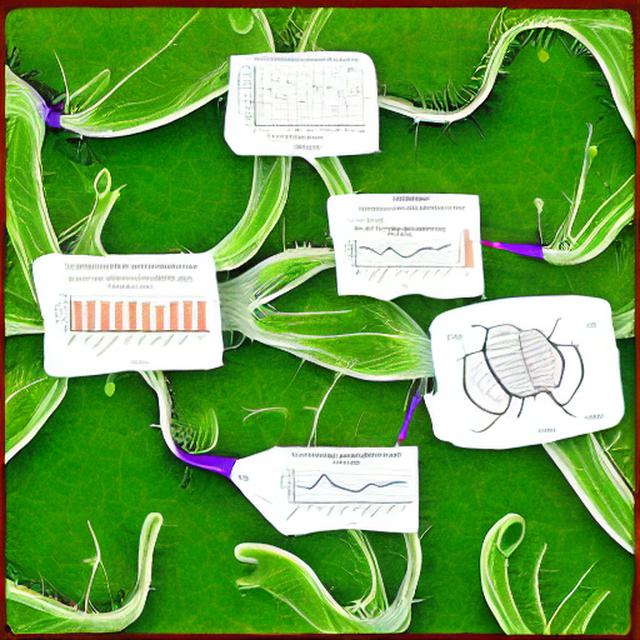Graph: (50, 274, 211, 367), (234, 56, 368, 143), (278, 450, 414, 527), (342, 224, 456, 288)
